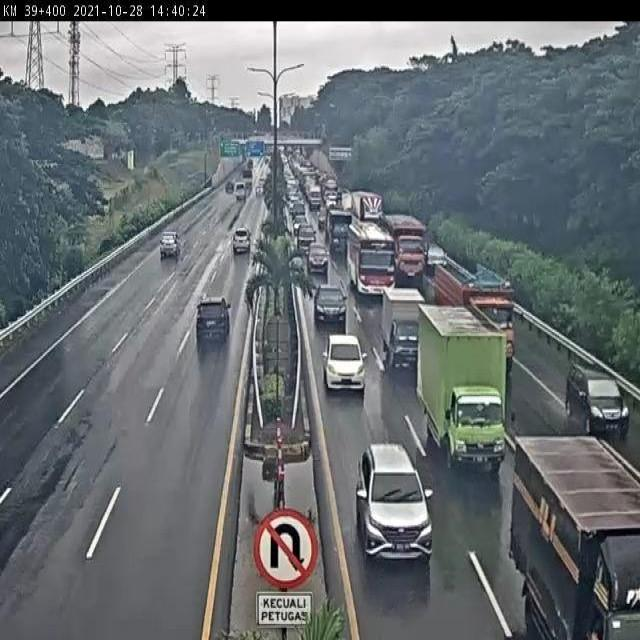bus-l-: (347, 220, 393, 295)
car: (356, 445, 435, 563), (566, 363, 631, 436), (324, 335, 366, 392), (194, 294, 233, 346), (313, 283, 348, 324), (156, 235, 181, 262), (230, 230, 253, 258), (306, 242, 328, 270)
truck-l-: (433, 263, 514, 373), (388, 213, 428, 279)
truck-m-: (510, 433, 640, 640), (418, 302, 506, 474)
truck-s-: (380, 285, 429, 372)
